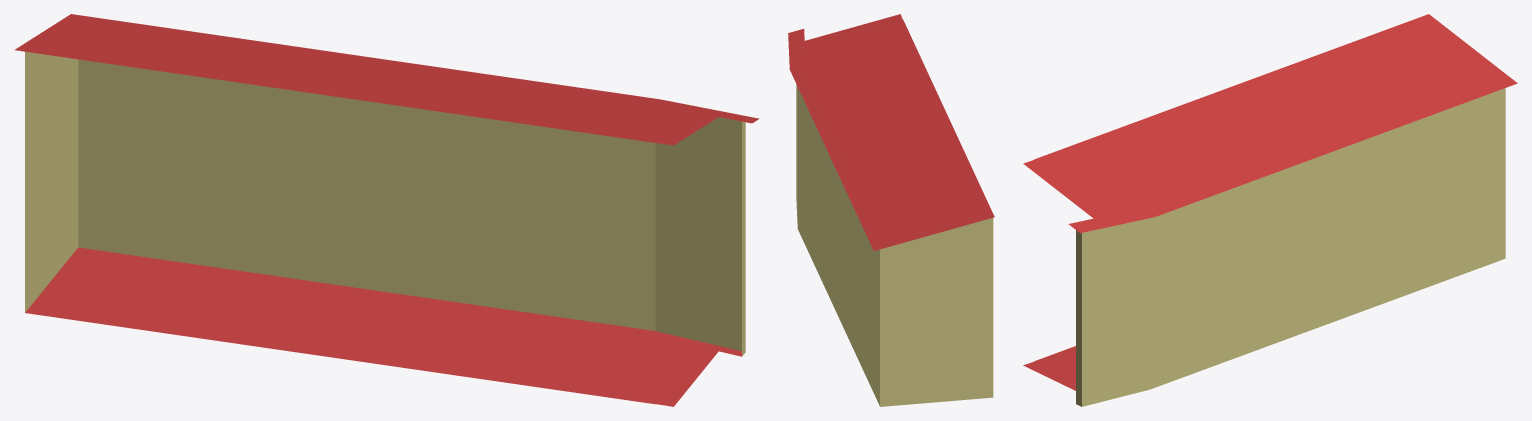
3 renders of one model, left to right at view 1: azimuth 30°, elevation 25°; view 2: azimuth 150°, elevation 25°; view 3: azimuth 270°, elevation 25°, orthographic. The views are drawn at different scales.
Bounding box in the file's own units: 13.11 × 14 × 6.3.
